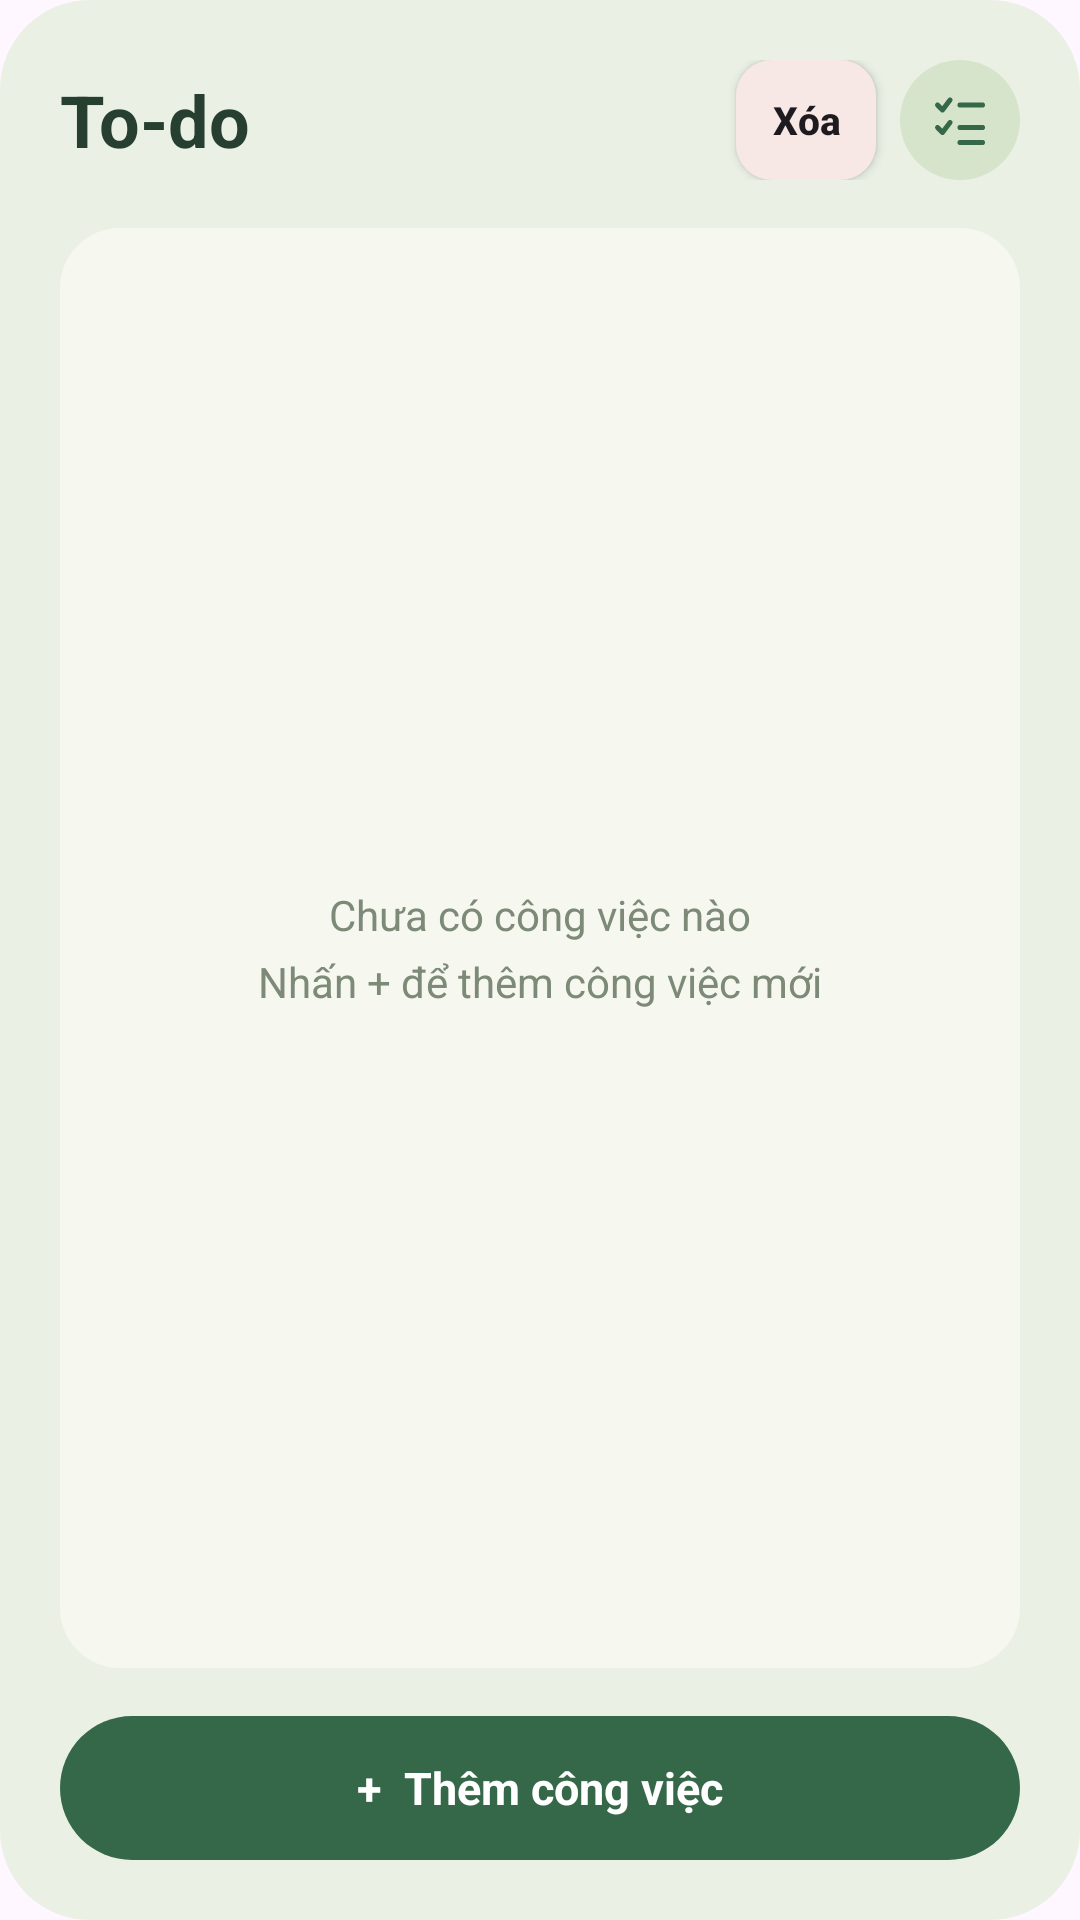

Screen size 1080px x 1920px. Icon name, then its center in pixels as [x,y]:
todo list: [960,120]
